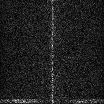wifi: (1, 98, 104, 102)
